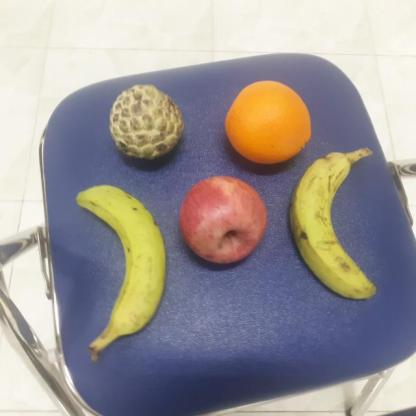annona: (110, 80, 184, 163)
apple: (178, 172, 269, 265)
banana: (74, 181, 166, 336), (288, 149, 380, 301)
orange: (222, 79, 314, 164)
